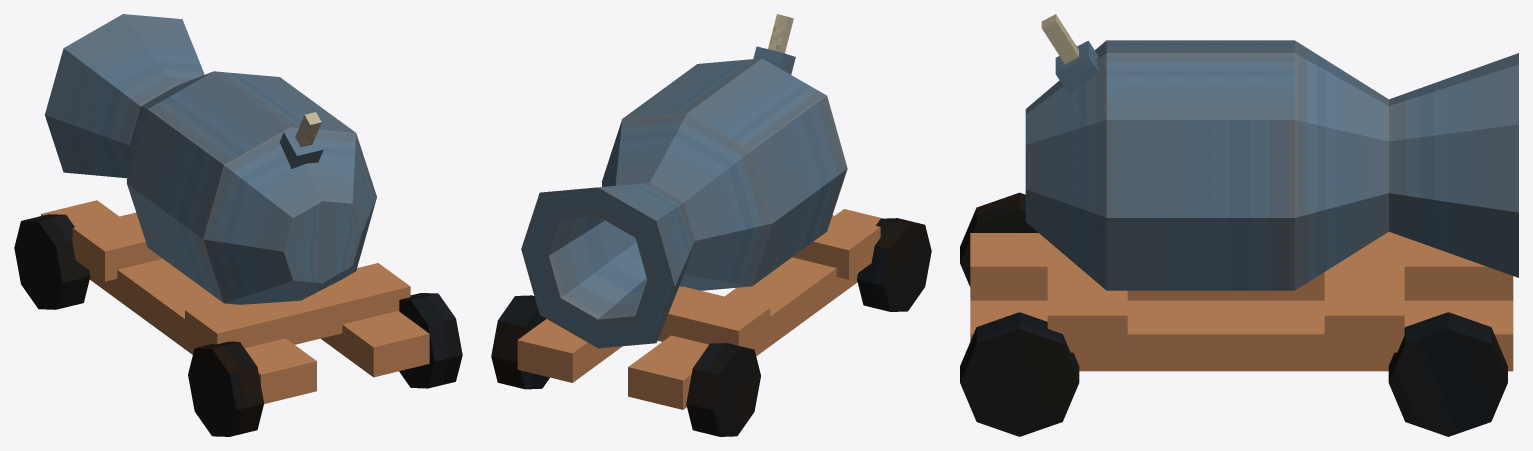
Rendered from Cannon.fbx.
3 views of the same model, side by side, from view 1: azimuth 30°, elevation 25°; view 2: azimuth 150°, elevation 25°; view 3: azimuth 270°, elevation 25° (orthographic). The views are drawn at different scales.
Visible parts, largest first — view 1: CHAHIN_CANNON:Mesh; view 2: CHAHIN_CANNON:Mesh; view 3: CHAHIN_CANNON:Mesh.
Part boxes in pixels (x1,y1,x2,y2): CHAHIN_CANNON:Mesh: (14,14,462,436); CHAHIN_CANNON:Mesh: (491,14,931,436); CHAHIN_CANNON:Mesh: (960,14,1518,436).
Bounding box in the file's own units: 0.9953 × 1.2 × 1.72.
1 material, 1 textured.
